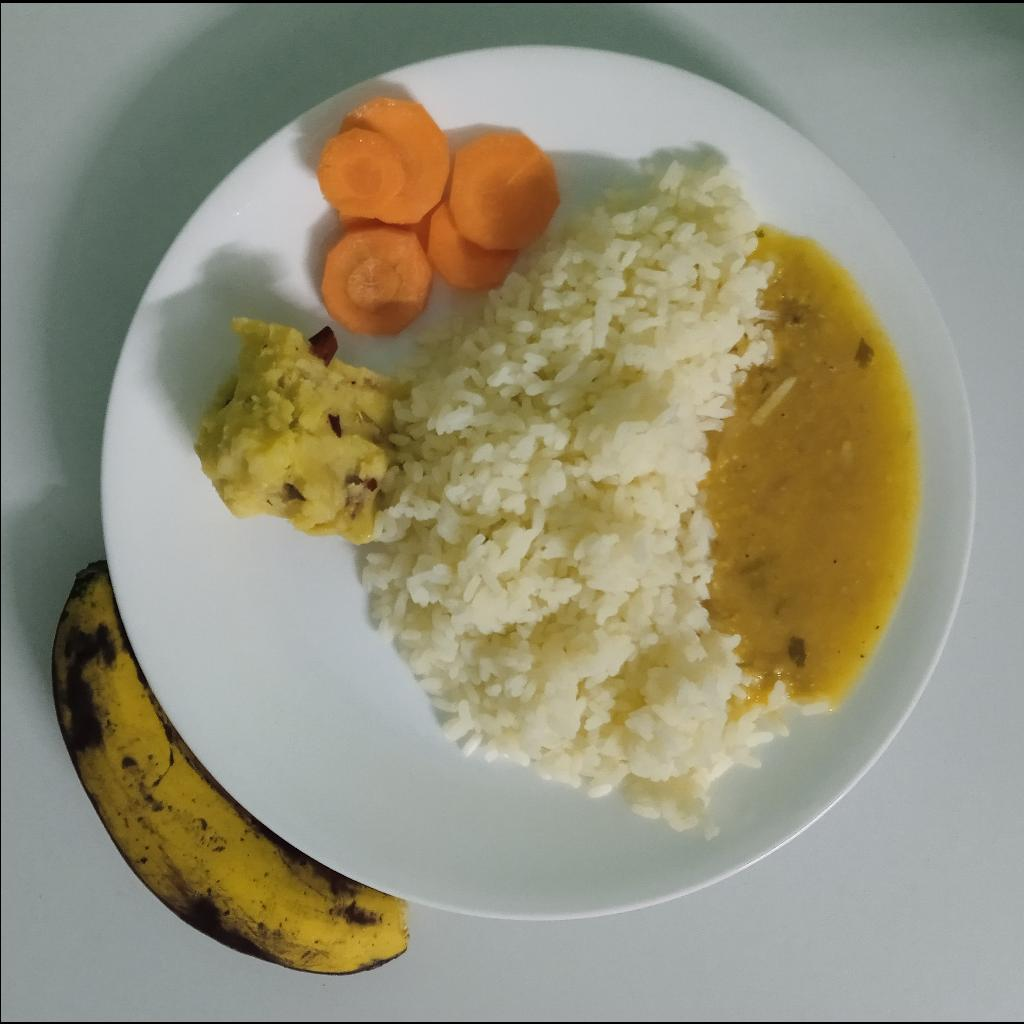banana: (50, 559, 410, 976)
carrot: (312, 93, 559, 337)
daal: (711, 220, 918, 722)
potato-mashed: (194, 317, 402, 545)
rice: (361, 152, 779, 839)
